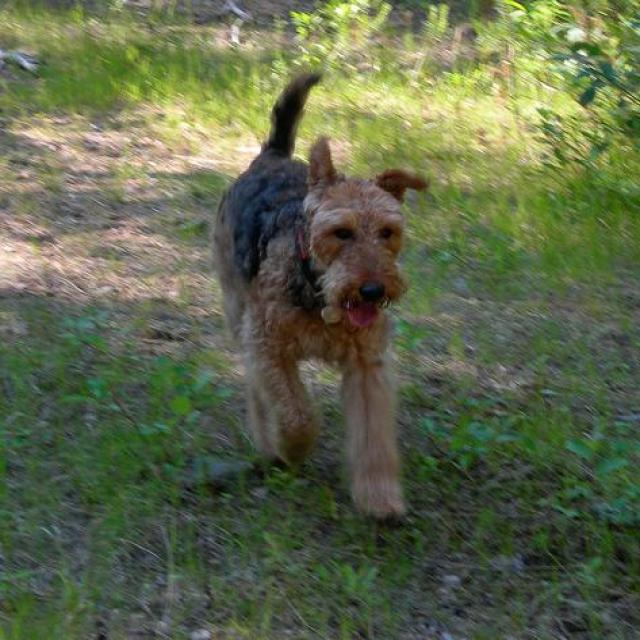airedale: (204, 55, 441, 526)
